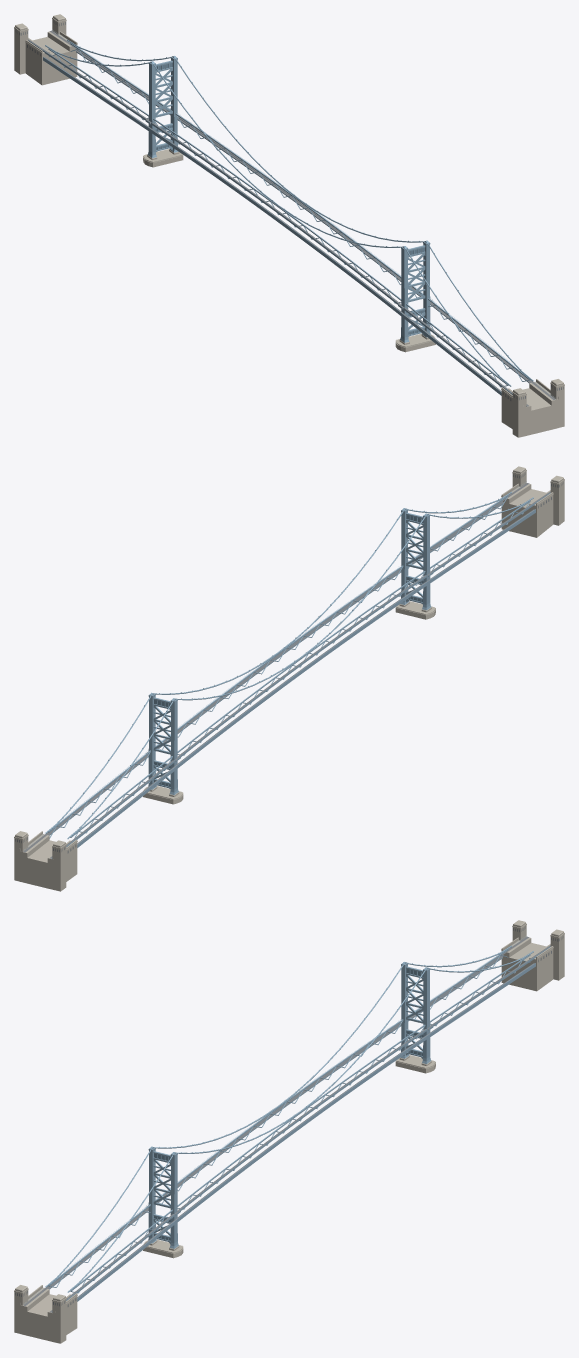
The model's file is phl-ben-franklin-bridge.glb.
3 views of the same model, one above another, from view 1: azimuth 30°, elevation 25°; view 2: azimuth 150°, elevation 25°; view 3: azimuth 330°, elevation 25° (orthographic).
Visible parts, largest first — view 1: Benjamin Franklin Bridge; view 2: Benjamin Franklin Bridge; view 3: Benjamin Franklin Bridge.
Boxes of the visible parts, left/top/right/bottom form: Benjamin Franklin Bridge: left=14, top=14, right=564, bottom=437; Benjamin Franklin Bridge: left=14, top=466, right=564, bottom=891; Benjamin Franklin Bridge: left=14, top=920, right=564, bottom=1343.
Size of the model in its own units: 57.2 by 118 by 1064.
